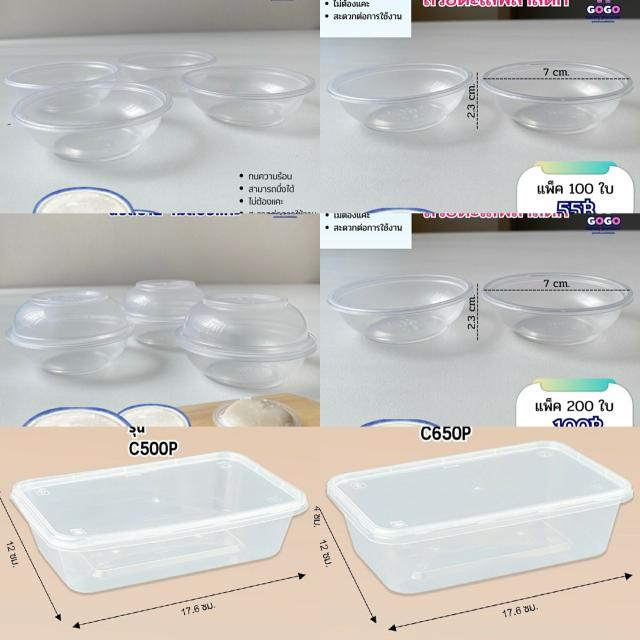Single-Use-Plastic: (327, 441, 633, 594), (10, 451, 308, 592), (5, 61, 173, 161), (175, 294, 316, 389), (482, 272, 633, 345), (5, 290, 134, 375), (482, 61, 633, 133), (328, 62, 473, 132), (328, 275, 473, 344), (181, 66, 315, 128), (123, 280, 204, 348), (119, 51, 216, 94)
